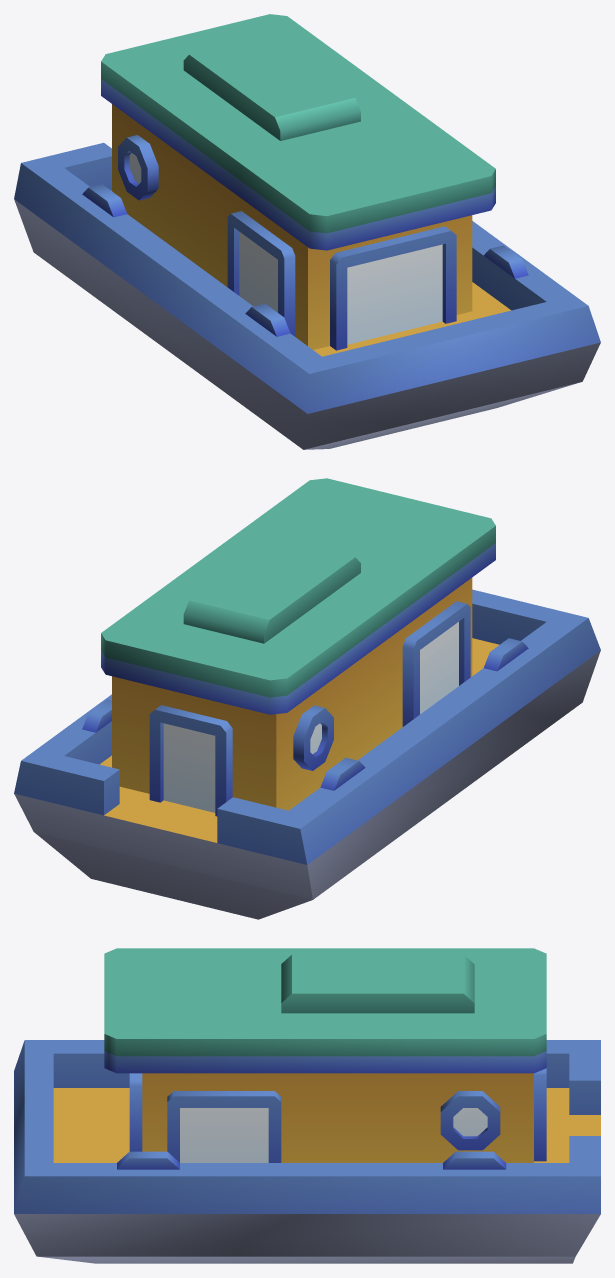
Rendered from sh-house.glb.
The picture shows the model from 3 angles, top to bottom: view 1: azimuth 30°, elevation 25°; view 2: azimuth 150°, elevation 25°; view 3: azimuth 270°, elevation 25°; orthographic projection.
Visible parts, largest first — view 1: boat-house-a; view 2: boat-house-a; view 3: boat-house-a.
Boxes of the visible parts, bbox=[...] form: boat-house-a: bbox=[14, 14, 600, 449]; boat-house-a: bbox=[14, 478, 600, 919]; boat-house-a: bbox=[14, 948, 600, 1263].
Size of the model in its own units: 2.68 by 2.17 by 4.64.
Materials: 1 (1 with a texture image).
